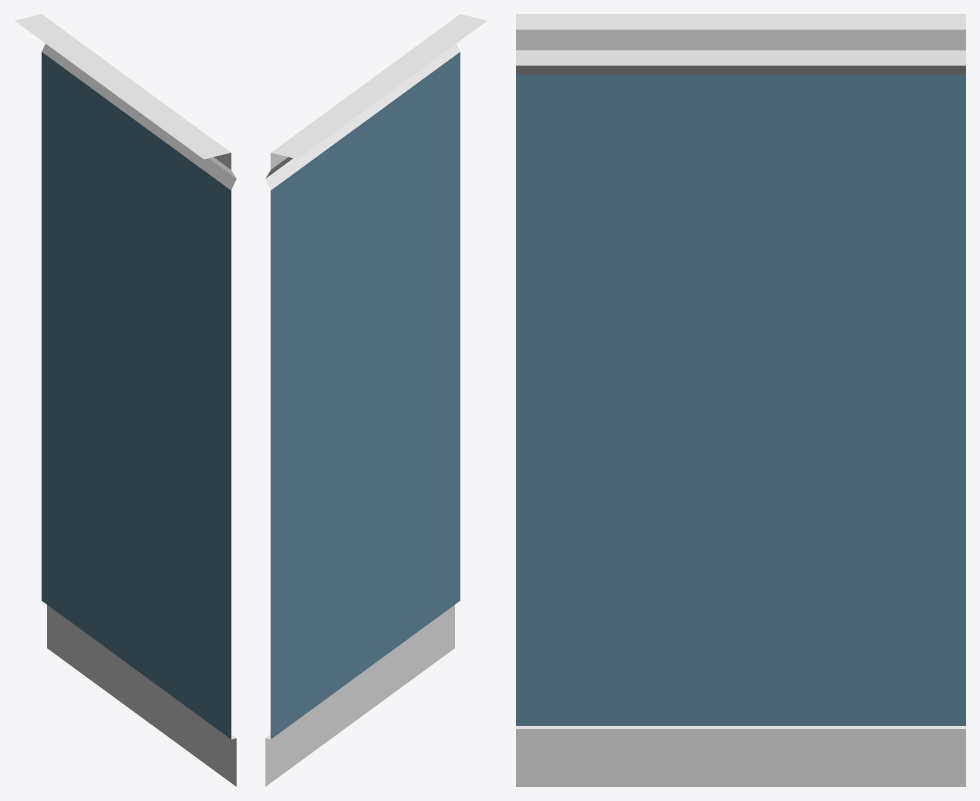
Rendered from g_t_BedroomWall.fbx.
3 views of the same model, side by side, from view 1: azimuth 30°, elevation 25°; view 2: azimuth 150°, elevation 25°; view 3: azimuth 270°, elevation 25° (orthographic). The views are drawn at different scales.
Parts seen in each view (by area): view 1: g_t_BedroomWall; view 2: g_t_BedroomWall; view 3: g_t_BedroomWall.
Boxes of the visible parts, box(x1,y1,x2,y2) form: g_t_BedroomWall: box(15, 14, 236, 786); g_t_BedroomWall: box(265, 14, 486, 786); g_t_BedroomWall: box(516, 14, 965, 786).
Size of the model in its own units: 9.99 by 185 by 100.
